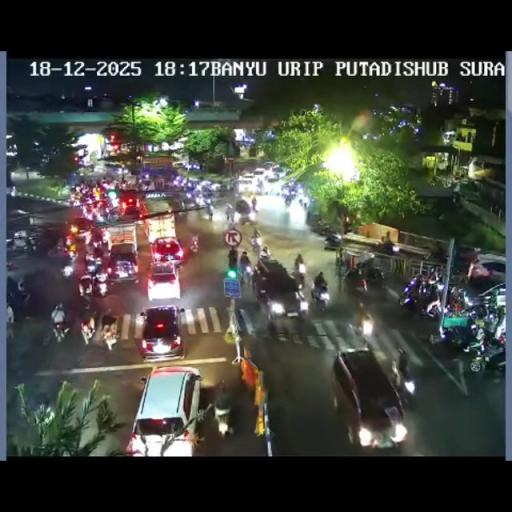Car: (330, 348, 406, 446), (124, 364, 202, 454), (252, 259, 305, 321), (136, 303, 184, 360), (456, 253, 506, 292), (106, 242, 140, 282), (150, 236, 184, 268), (118, 192, 142, 218), (69, 216, 96, 239), (251, 168, 268, 189), (238, 173, 254, 193), (103, 162, 125, 174), (266, 168, 280, 182), (171, 160, 189, 169)
Motorcycle: (398, 274, 444, 318), (465, 330, 504, 374), (226, 190, 260, 224), (392, 362, 415, 404), (6, 282, 32, 318), (481, 306, 504, 339), (343, 267, 366, 298), (214, 398, 232, 435), (312, 276, 329, 308), (79, 310, 95, 344), (364, 263, 384, 289), (448, 286, 466, 313), (358, 310, 374, 338), (427, 241, 447, 263), (238, 259, 254, 286), (52, 318, 69, 342), (93, 274, 109, 298), (78, 274, 94, 298), (102, 203, 119, 222), (64, 234, 78, 256), (61, 258, 75, 279), (379, 239, 396, 256), (85, 256, 100, 275), (173, 202, 188, 221), (318, 223, 336, 238), (6, 306, 14, 339), (294, 270, 306, 290), (250, 235, 262, 253), (25, 237, 37, 255), (259, 244, 271, 261), (228, 247, 238, 267), (195, 194, 206, 212), (189, 234, 198, 256), (94, 244, 104, 262), (186, 188, 198, 202), (202, 185, 214, 199), (226, 178, 237, 193), (173, 175, 184, 188), (284, 190, 294, 204), (204, 197, 213, 212), (140, 180, 150, 191), (226, 209, 234, 222), (252, 202, 258, 214), (302, 198, 308, 210)
